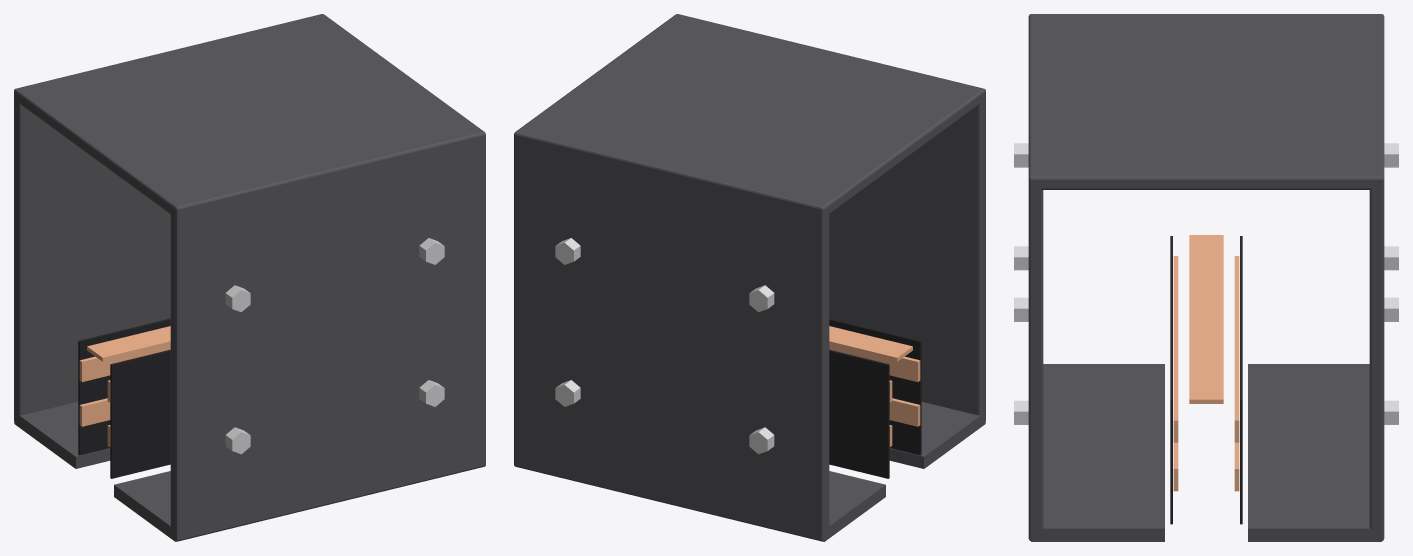
The model's file is Busway_Joint.glb.
3 renders of one model, left to right at view 1: azimuth 30°, elevation 25°; view 2: azimuth 150°, elevation 25°; view 3: azimuth 270°, elevation 25°, orthographic. The views are drawn at different scales.
Visible parts, largest first — view 1: Cover_Side_-1, Cover_Top, Cover_Side_+1, Insulator_busbars, FLOW_busbars, Cover_Bottom_+1, Cover_Bottom_-1; view 2: Cover_Side_+1, Cover_Top, Cover_Side_-1, Insulator_busbars, FLOW_busbars, Cover_Bottom_-1, Cover_Bottom_+1; view 3: Cover_Top, Cover_Bottom_+1, Cover_Bottom_-1, FLOW_busbars, Cover_Side_+1, Cover_Side_-1, Insulator_busbars.
Part boxes in pixels (<box>): Cover_Side_-1: <box>170,128,485,541</box>; Cover_Top: <box>14,14,485,217</box>; Cover_Side_+1: <box>14,14,327,424</box>; Insulator_busbars: <box>78,318,170,478</box>; FLOW_busbars: <box>79,326,170,446</box>; Cover_Bottom_+1: <box>14,402,110,468</box>; Cover_Bottom_-1: <box>114,471,176,541</box>; Cover_Side_+1: <box>514,128,829,541</box>; Cover_Top: <box>514,14,984,217</box>; Cover_Side_-1: <box>672,14,985,424</box>; Insulator_busbars: <box>829,318,921,478</box>; FLOW_busbars: <box>829,326,920,446</box>; Cover_Bottom_-1: <box>889,402,985,468</box>; Cover_Bottom_+1: <box>823,471,885,541</box>; Cover_Top: <box>1028,14,1383,189</box>; Cover_Bottom_+1: <box>1248,364,1381,541</box>; Cover_Bottom_-1: <box>1031,364,1164,541</box>; FLOW_busbars: <box>1173,235,1239,491</box>; Cover_Side_+1: <box>1369,14,1384,540</box>; Cover_Side_-1: <box>1028,14,1043,540</box>; Insulator_busbars: <box>1170,236,1242,524</box>.
Size of the model in its own units: 0.16 by 0.165 by 0.158.
